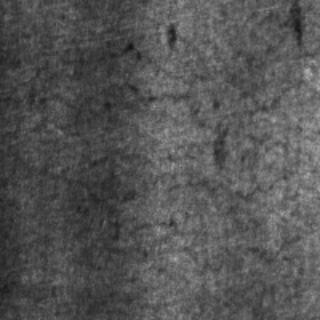crazing: (39, 42, 291, 258)
